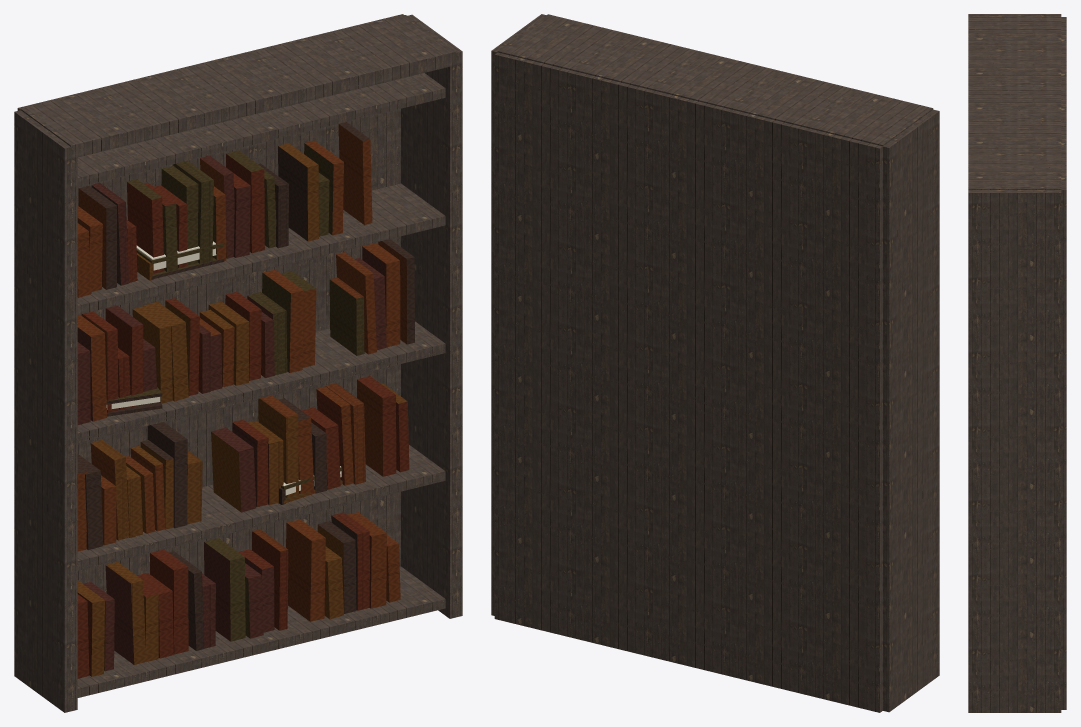
File: case.glb
3 views of the same model, side by side, from view 1: azimuth 30°, elevation 25°; view 2: azimuth 150°, elevation 25°; view 3: azimuth 270°, elevation 25° (orthographic). The views are drawn at different scales.
Visible parts, largest first — view 1: case; view 2: case; view 3: case.
Boxes of the visible parts, box(x1,y1,x2,y2) form: case: box(14, 14, 462, 712); case: box(491, 14, 939, 712); case: box(968, 14, 1066, 712).
Bounding box in the file's own units: 1.55 × 2.11 × 0.36.
Materials: 3 (2 with a texture image).
